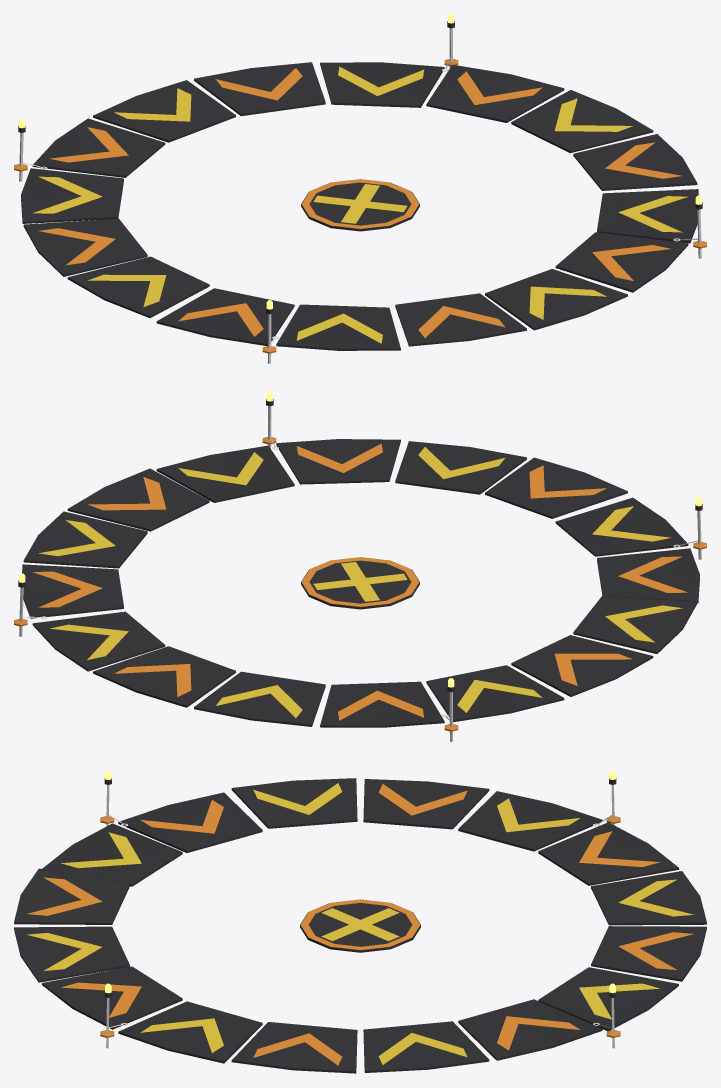
Rendered from uplink_pad.glb.
3 views of the same model, one above another, from view 1: azimuth 30°, elevation 25°; view 2: azimuth 150°, elevation 25°; view 3: azimuth 270°, elevation 25° (orthographic).
Visible parts, largest first — view 1: uplink_pad_mesh; view 2: uplink_pad_mesh; view 3: uplink_pad_mesh.
Boxes of the visible parts, x1=… form: uplink_pad_mesh: x1=14, y1=14, x2=706, y2=363; uplink_pad_mesh: x1=14, y1=392, x2=706, y2=741; uplink_pad_mesh: x1=14, y1=770, x2=706, y2=1073.
Bounding box in the file's own units: 4.8 × 0.4853 × 4.8.
